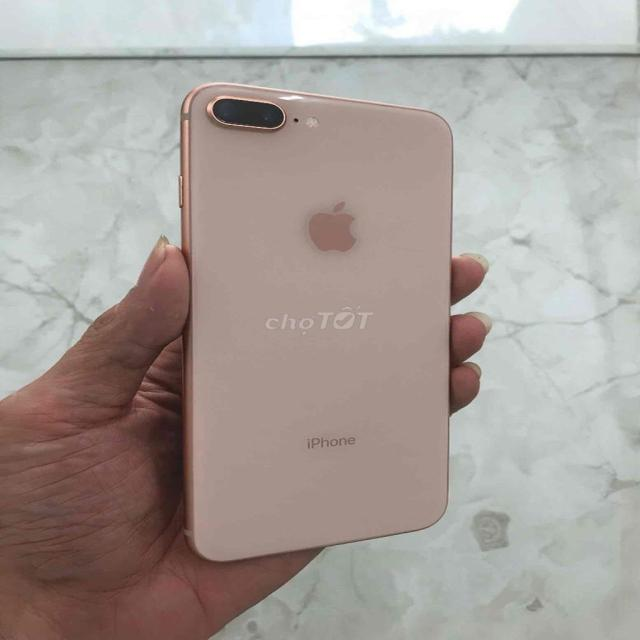gen_7_8: (163, 78, 459, 564)
